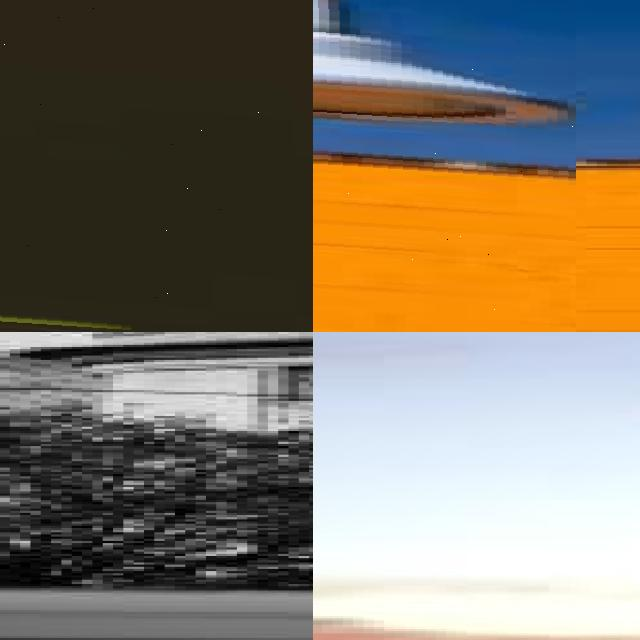street light: (0, 0, 313, 332), (313, 0, 576, 332)
